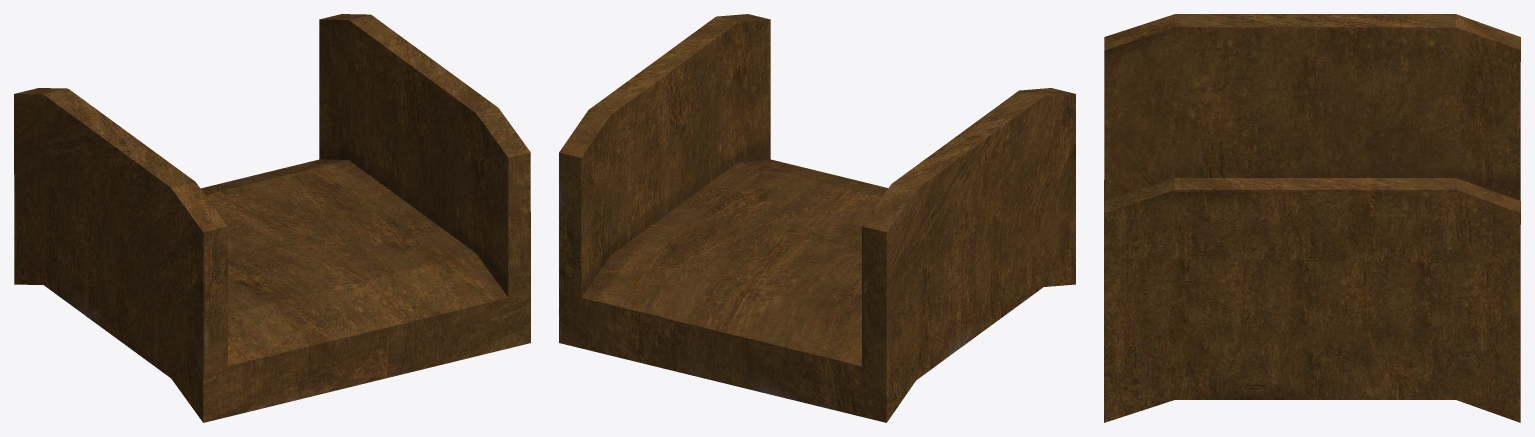
The model's file is bridge.glb.
3 views of the same model, side by side, from view 1: azimuth 30°, elevation 25°; view 2: azimuth 150°, elevation 25°; view 3: azimuth 270°, elevation 25° (orthographic). The views are drawn at different scales.
Parts seen in each view (by area): view 1: Cube; view 2: Cube; view 3: Cube.
Boxes of the visible parts, box(x1,y1,x2,y2) form: Cube: box(14, 14, 530, 422); Cube: box(559, 14, 1075, 422); Cube: box(1104, 14, 1520, 422).
Bounding box in the file's own units: 2 × 1.23 × 2.
1 material, 1 textured.
